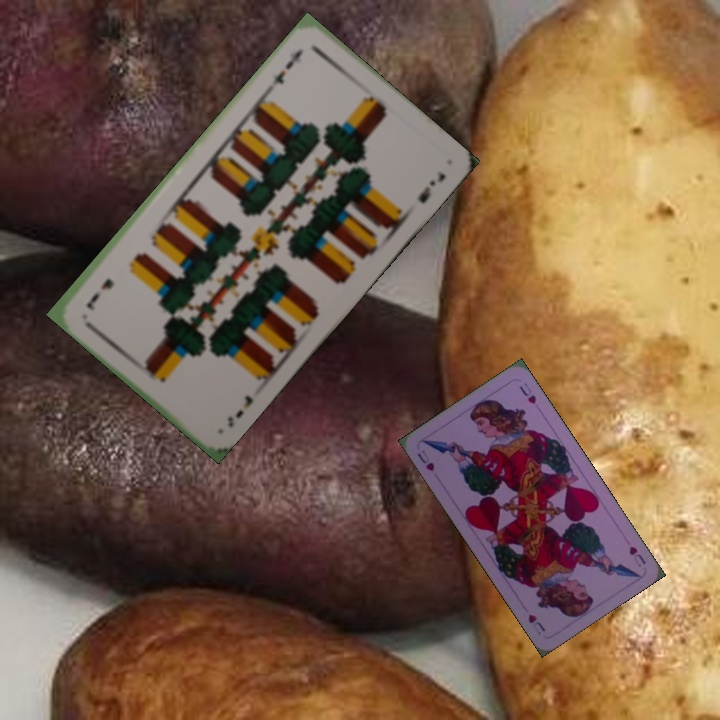E7: (265, 44, 305, 90), (223, 391, 256, 430)
HU: (413, 446, 437, 474), (625, 542, 649, 570)
